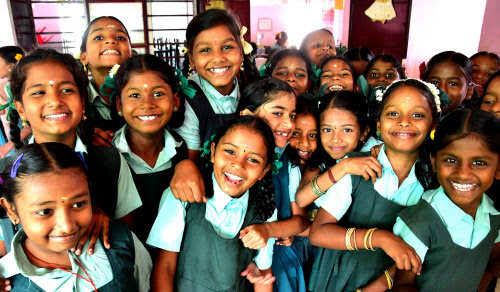student: (2, 153, 103, 252), (7, 55, 89, 136), (436, 114, 500, 207), (174, 17, 251, 85), (110, 59, 181, 132), (210, 113, 269, 194), (237, 76, 297, 150), (381, 78, 434, 151), (74, 17, 131, 72), (321, 89, 367, 157), (423, 56, 474, 110), (265, 41, 313, 96), (367, 53, 415, 93), (298, 28, 345, 65), (316, 58, 354, 99)
